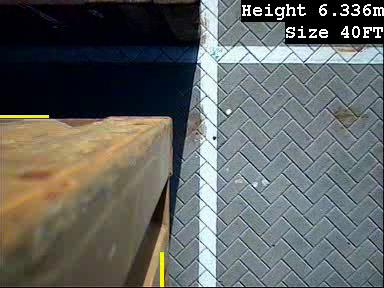groundmarker_2: (199, 162, 241, 219)
